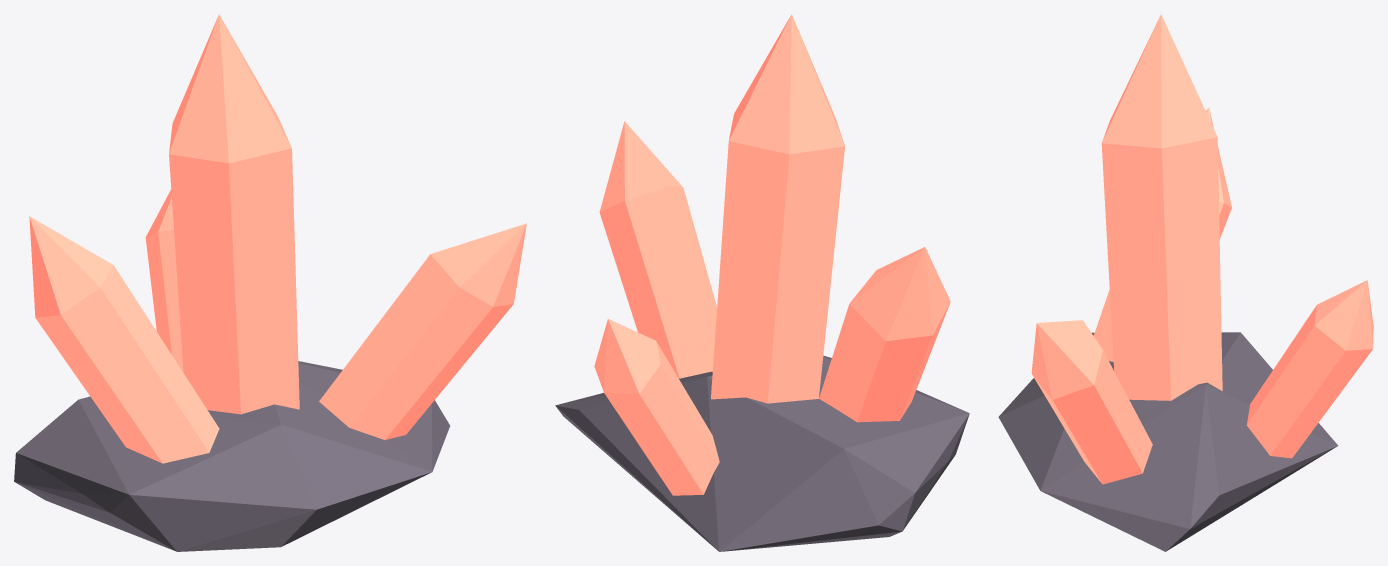
Rendered from Crystal_ClusterSmall_Red.glb.
The picture shows the model from 3 angles, left to right: view 1: azimuth 30°, elevation 25°; view 2: azimuth 150°, elevation 25°; view 3: azimuth 270°, elevation 25°; orthographic projection. The views are drawn at different scales.
Visible parts, largest first — view 1: Crystal_ClusterSmall_red; view 2: Crystal_ClusterSmall_red; view 3: Crystal_ClusterSmall_red.
Part boxes in pixels (bbox=[...]): Crystal_ClusterSmall_red: bbox=[14, 14, 526, 551]; Crystal_ClusterSmall_red: bbox=[555, 14, 969, 551]; Crystal_ClusterSmall_red: bbox=[998, 14, 1373, 551].
Bounding box in the file's own units: 0.5883 × 0.6701 × 0.512.
